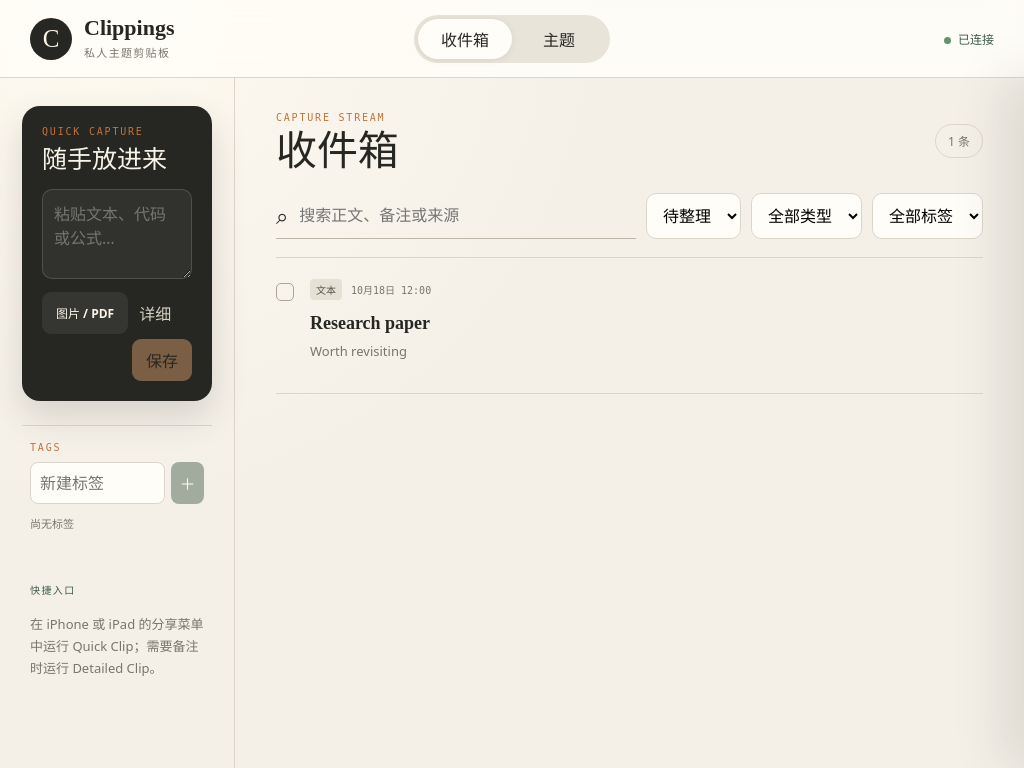
shows only clip titles in a topic board
The image size is (1024, 768).
Click the button "主题": (559, 38) [512,18,606,58]
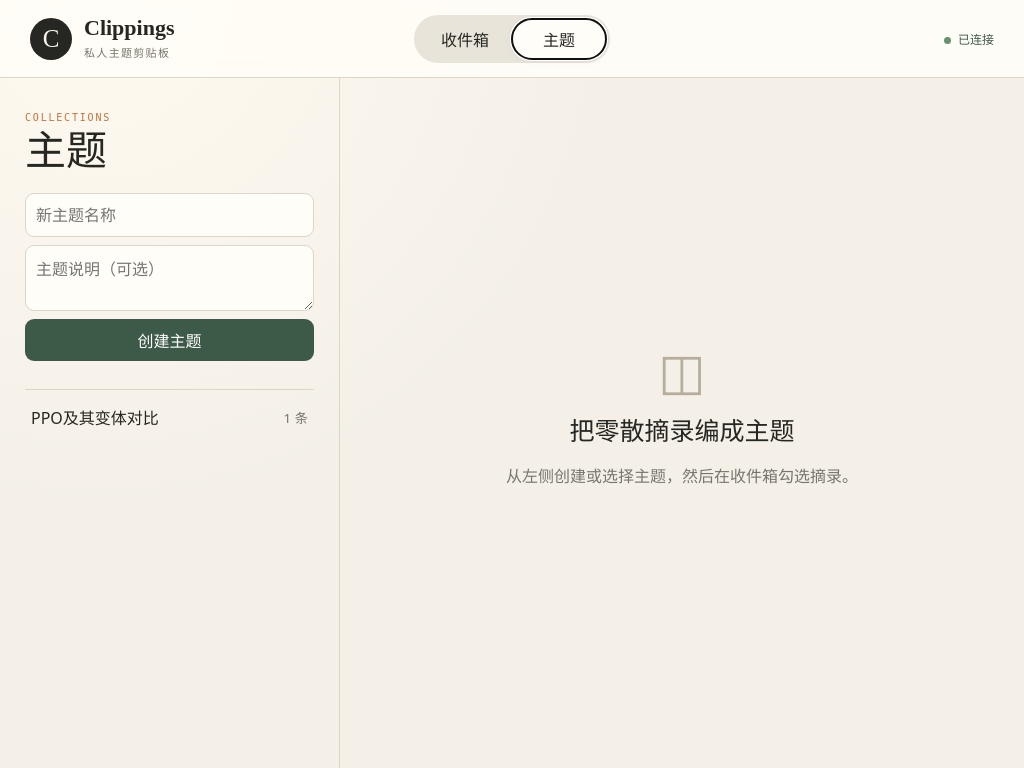
Click the button "PPO及其变体对比 1 条": (95, 418) [25,389,314,445]
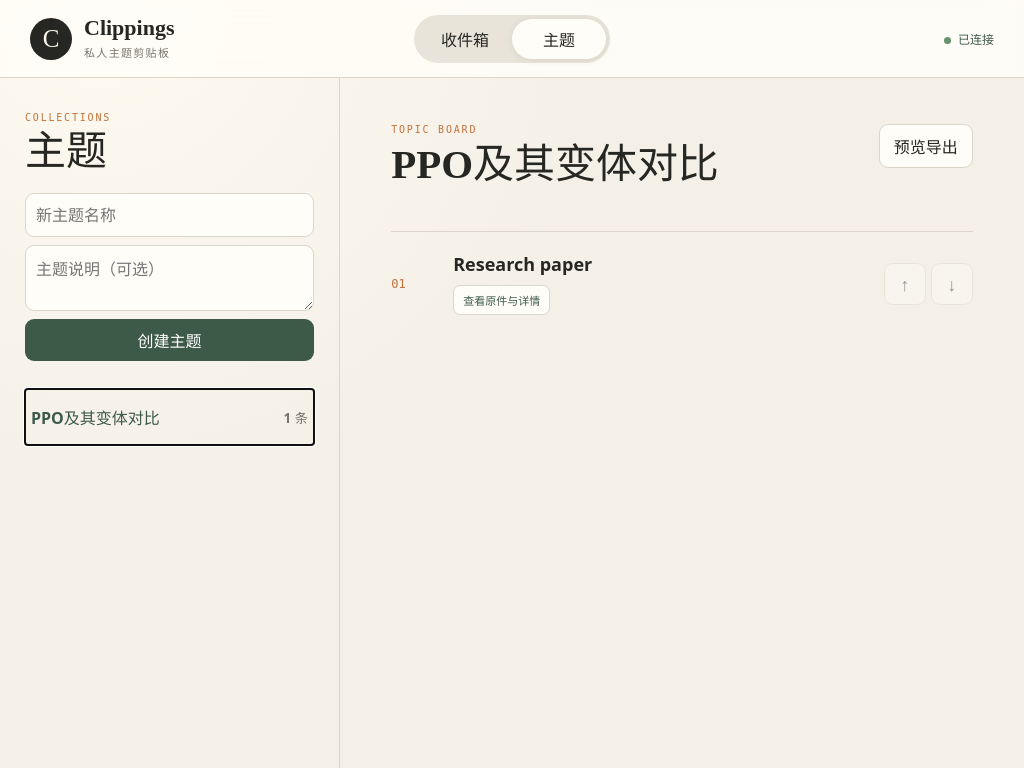
Expected: the text "Research paper" is shown, [453,252,592,276]
Expected: the button "查看原件与详情" is shown, [453,285,550,315]
